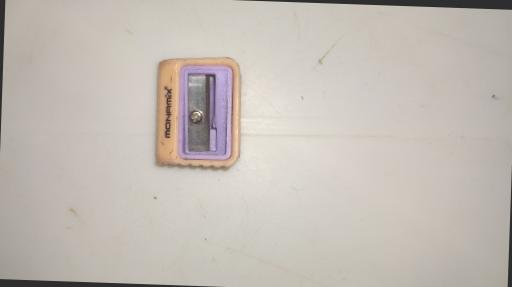Sharpener: (153, 55, 244, 170)
